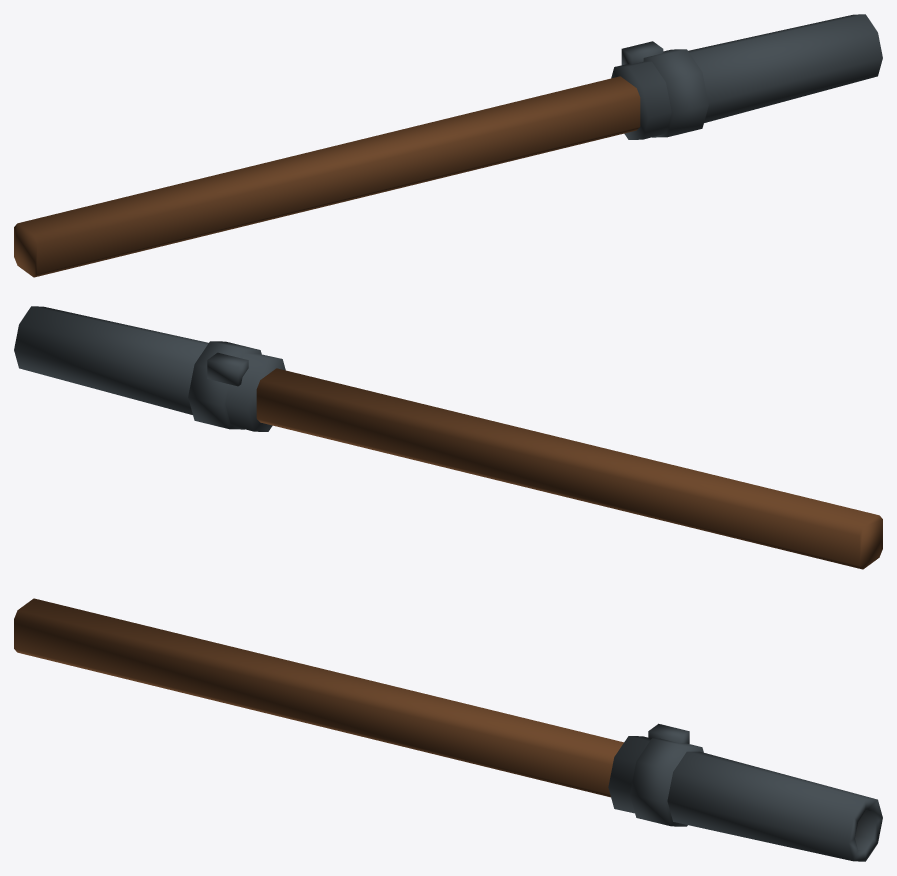
File: early_handgonne_lod0.glb
3 renders of one model, top to bottom at view 1: azimuth 30°, elevation 25°; view 2: azimuth 150°, elevation 25°; view 3: azimuth 330°, elevation 25°, orthographic.
Parts seen in each view (by area): view 1: WeaponMesh; view 2: WeaponMesh; view 3: WeaponMesh.
Part boxes in pixels (box(x1,y1,x2,y2)): WeaponMesh: box(14, 14, 882, 277); WeaponMesh: box(14, 306, 882, 569); WeaponMesh: box(14, 598, 882, 861).
Bounding box in the file's own units: 1.08 × 0.098 × 0.098.
